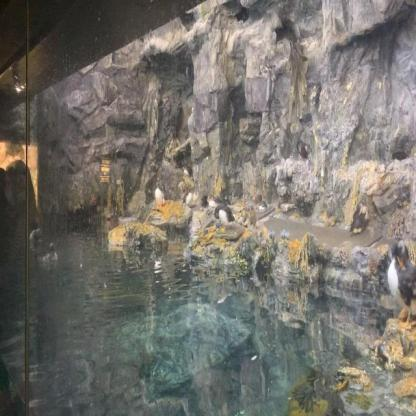puffin: (388, 237, 416, 325), (348, 200, 370, 234), (213, 201, 236, 231), (152, 178, 167, 207), (294, 135, 310, 161), (206, 192, 222, 209), (181, 185, 192, 208), (182, 162, 194, 181), (198, 192, 210, 210)
